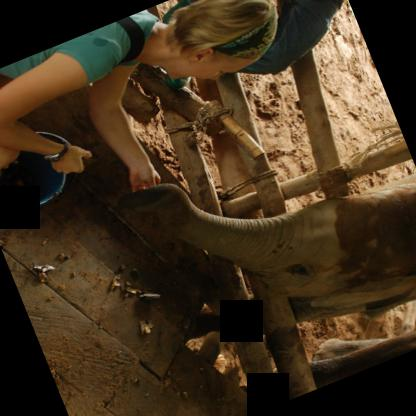handbag: (114, 16, 143, 67)
